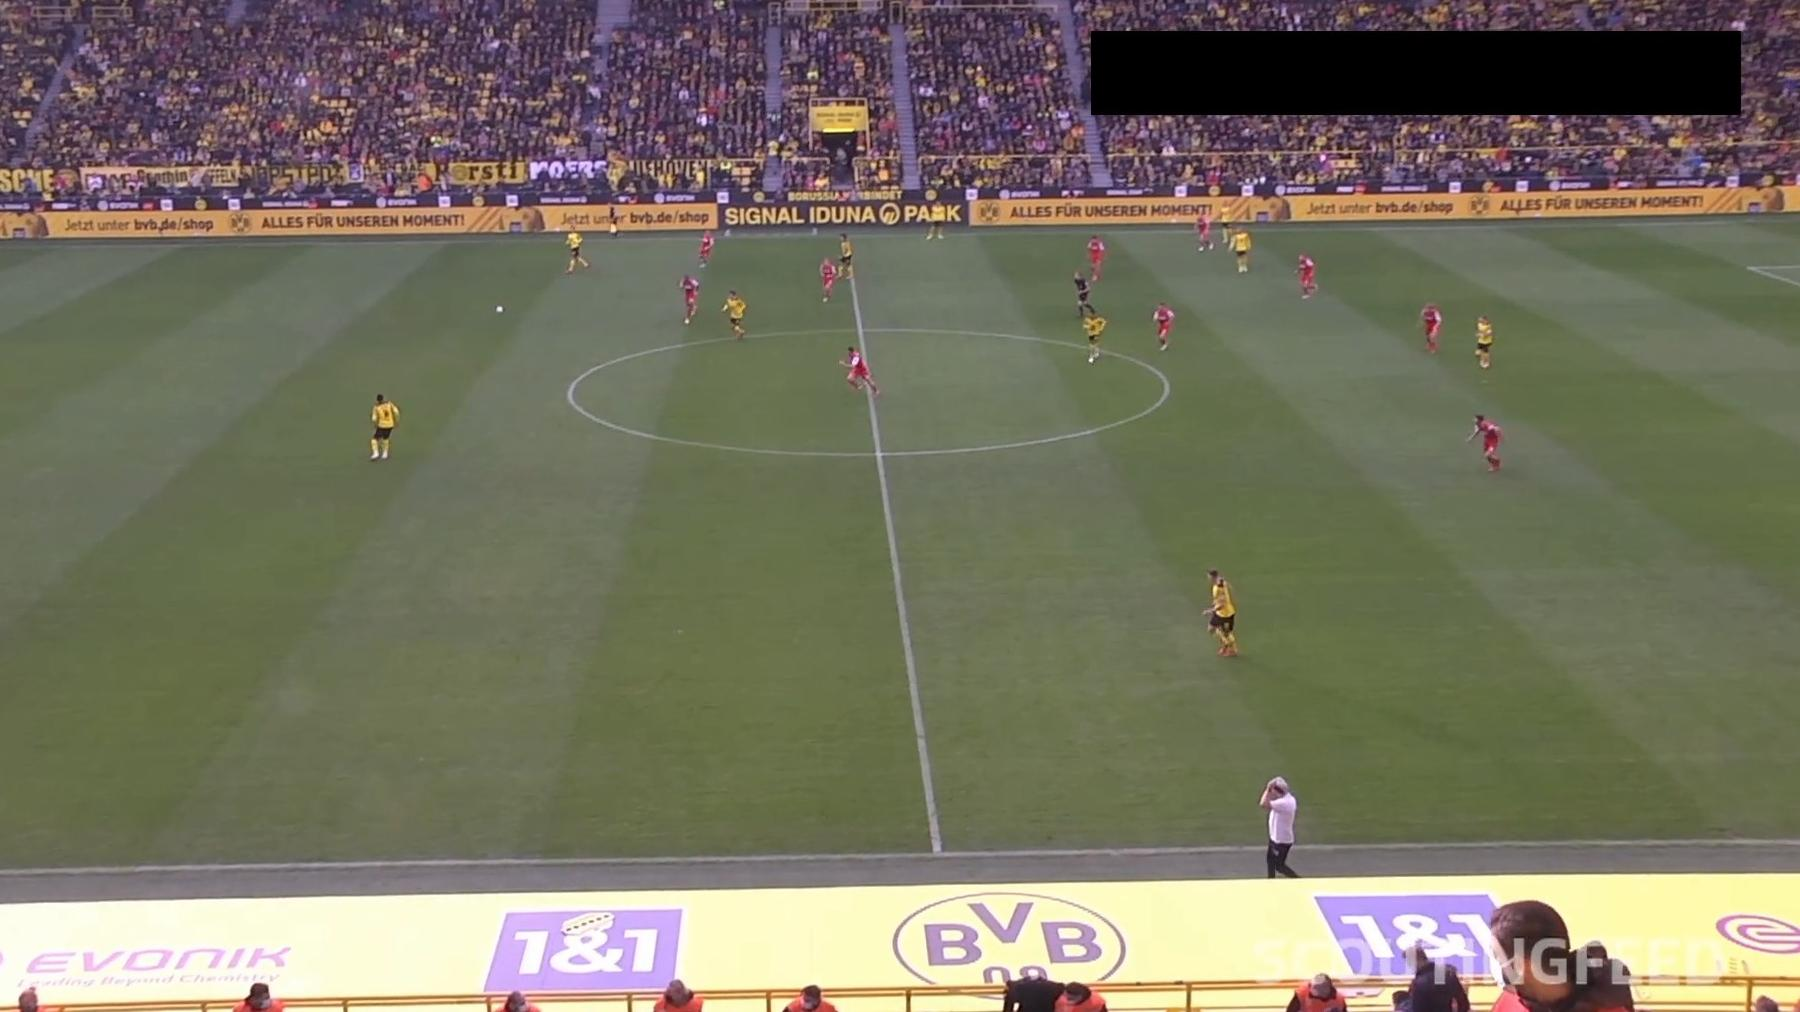ball: (495, 304, 504, 315)
